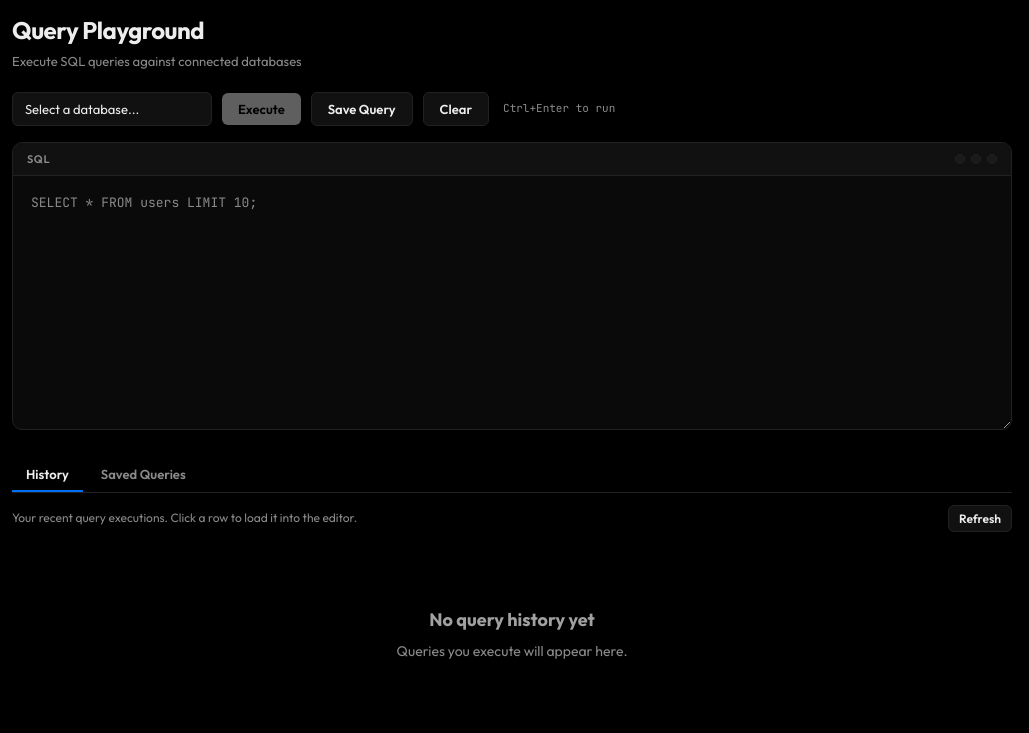
it: QueryPlayground — saved queries panel › filters saved queries by search text
Click the tab "Saved Queries". click: click(143, 475)
box: [87,458,200,492]
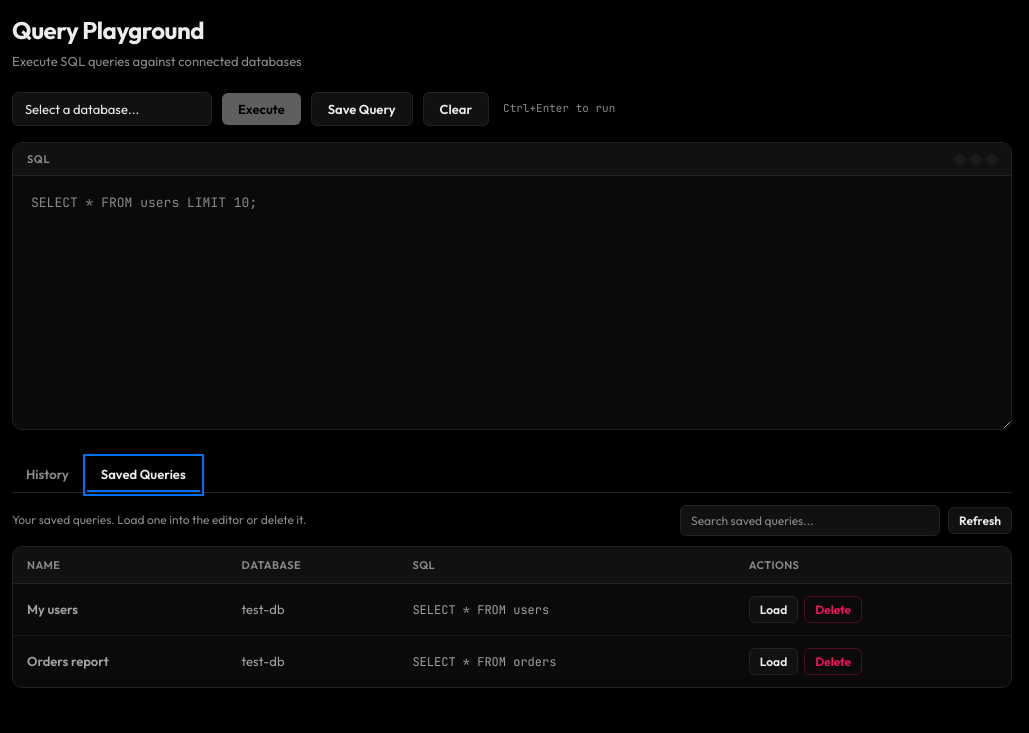
Expected: the text "My users" is shown, [13,584,228,636]
Type "orders" into the search field labelled "Search saved queries...". click: (810, 520)
box: [680,505,940,536]
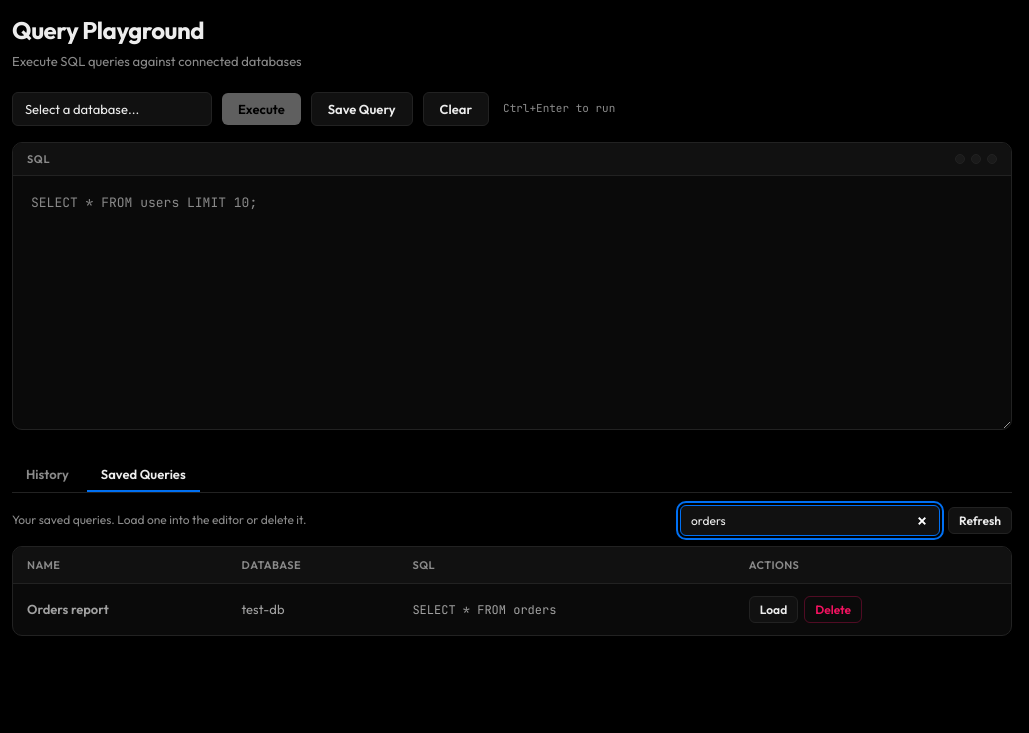
Expected: the text "Orders report" is shown, [13,584,228,635]
Expected: the text "My users" is gone
Replace the text in the search field named "Search saved queries" with "missing". click: (810, 520)
box: [680,505,940,536]
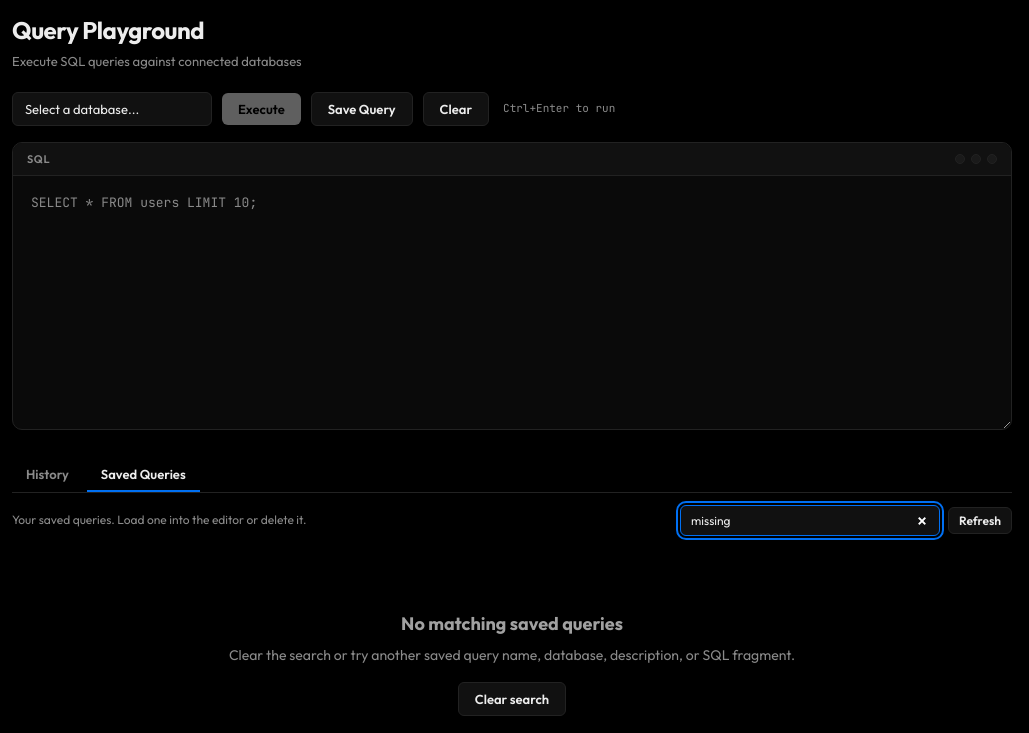
Expected: the heading "No matching saved queries" is shown, [401,612,623,635]
Click the button "Clear search". click: click(512, 699)
box: [458,682,566,716]
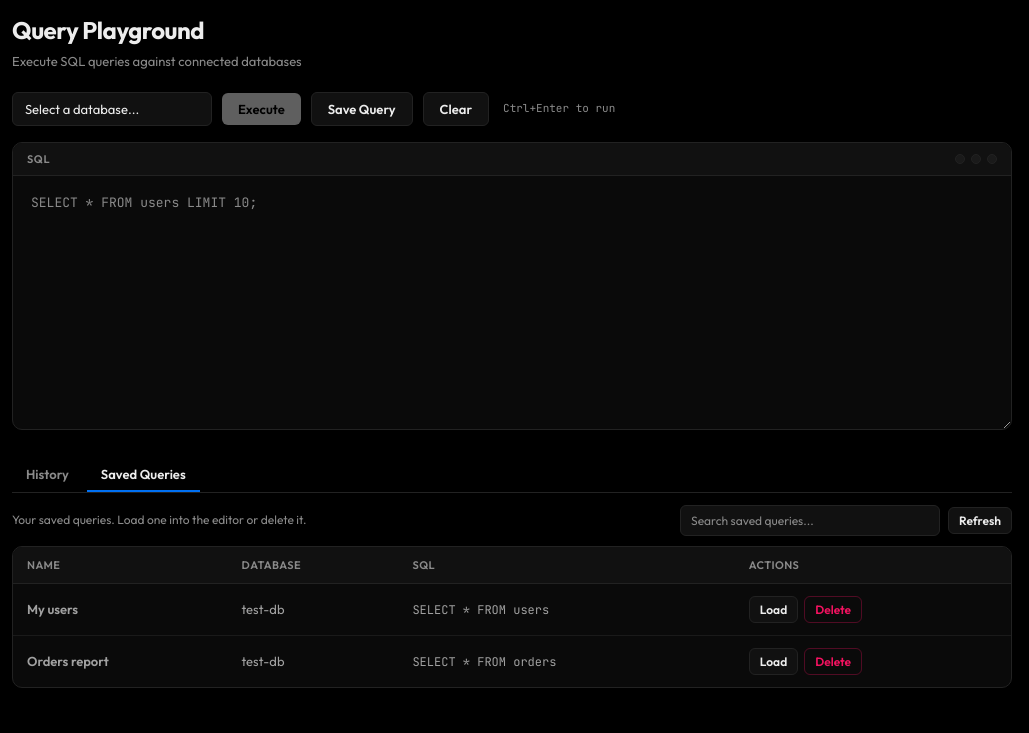
Expected: the text "My users" is shown, [13,584,228,636]
Expected: the text "Orders report" is shown, [13,636,228,687]
